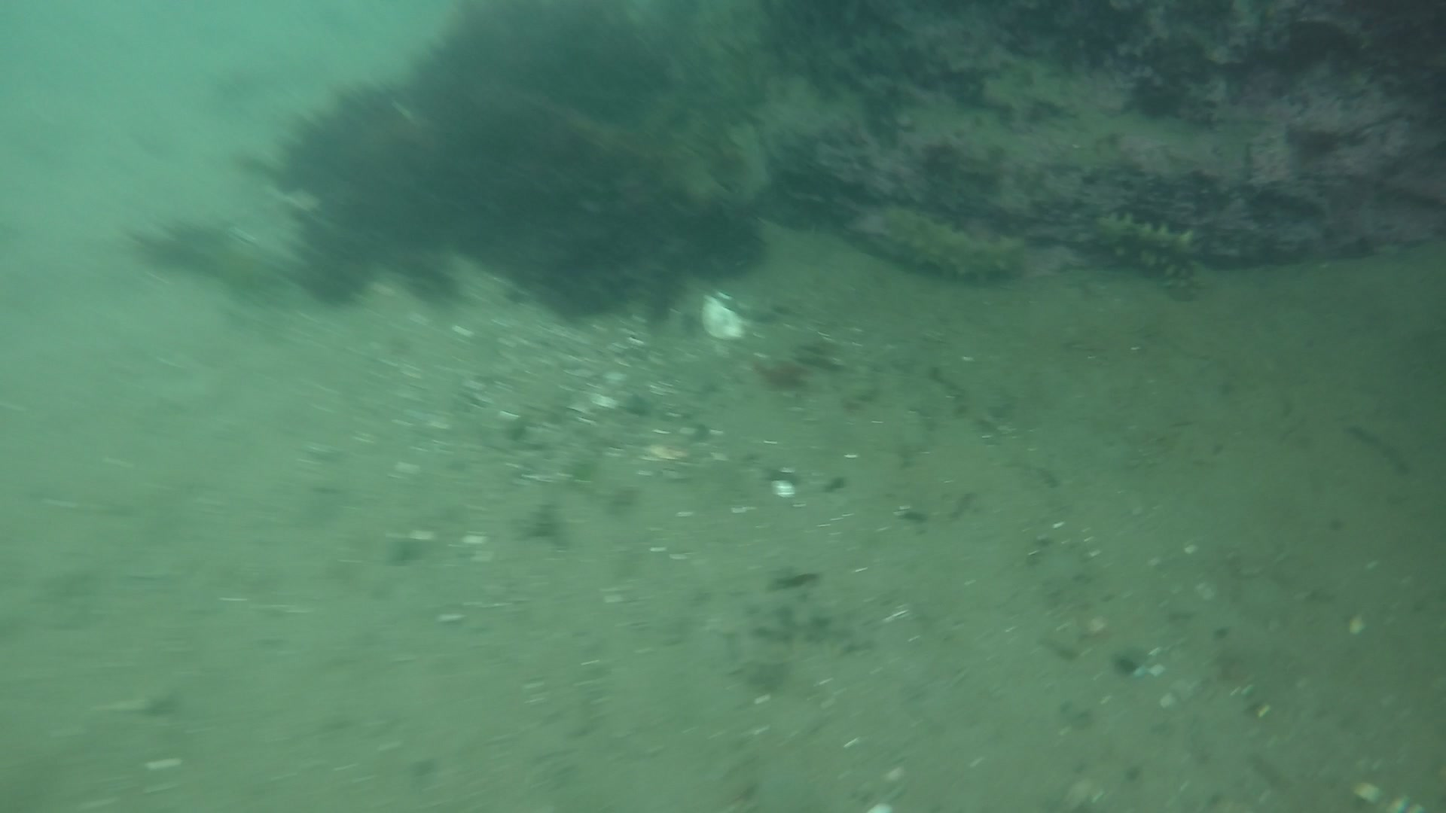echinus: (851, 206, 1038, 284), (1075, 216, 1209, 282)
